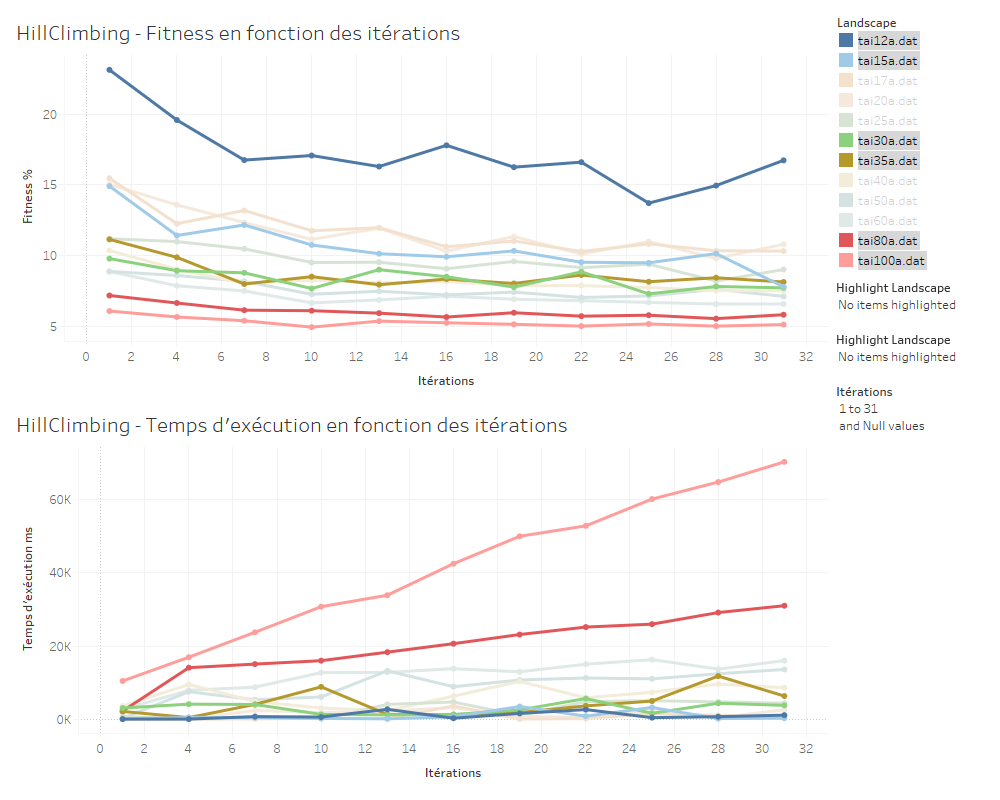

This screenshot's page, from the dashboard's own definition file:
{"tool":"tableau","page":{"name":"HillClimbing","canvas":[1000,800],"ordinal":0},"visuals":[{"type":"worksheet","title":"HillClimbing - Fitness en fonction des itérations","mark":"Line","rows":["Calculation_1762314897165438979"],"cols":["F5"],"box":[8,8,824,392]},{"type":"legend","title":"HillClimbing - Fitness en fonction des itérations","param":"[federated.04dnjkg0izqc1e169e01b0ksz4hj].[none:F1:nk]","box":[832,8,160,266]},{"type":"highlighter","title":"HillClimbing - Fitness en fonction des itérations","param":"[federated.04dnjkg0izqc1e169e01b0ksz4hj].[none:F1:nk]","box":[832,274,160,52]},{"type":"highlighter","title":"HillClimbing - Temps d'exécution en fonction des itérations","param":"[federated.04dnjkg0izqc1e169e01b0ksz4hj].[none:F1:nk]","box":[832,326,160,52]},{"type":"filter","title":"HillClimbing - Temps d'exécution en fonction des itérations","param":"[federated.04dnjkg0izqc1e169e01b0ksz4hj].[none:F5:qk]","box":[832,378,160,69]},{"type":"worksheet","title":"HillClimbing - Temps d'exécution en fonction des itérations","mark":"Line","rows":["Calculation_1762314897165348866"],"cols":["F5"],"box":[8,400,824,392]}]}

Visuals, with their boxes in screenshot pixels (x1, y1, x2, y2), scaled from the page's 1000x800 canvas onto the 1000x800 screenshot:
"HillClimbing - Fitness en fonction des itérations" worksheet (Line marks): select_region(8, 8, 832, 400)
"HillClimbing - Fitness en fonction des itérations" legend: select_region(832, 8, 992, 274)
"HillClimbing - Fitness en fonction des itérations" highlighter: select_region(832, 274, 992, 326)
"HillClimbing - Temps d'exécution en fonction des itérations" highlighter: select_region(832, 326, 992, 378)
"HillClimbing - Temps d'exécution en fonction des itérations" filter: select_region(832, 378, 992, 447)
"HillClimbing - Temps d'exécution en fonction des itérations" worksheet (Line marks): select_region(8, 400, 832, 792)
